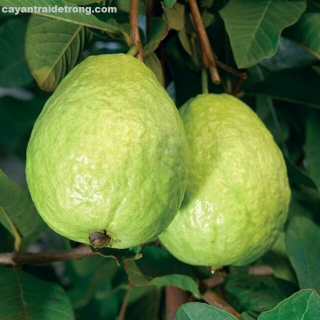oi: (22, 49, 187, 251), (142, 90, 295, 273)
